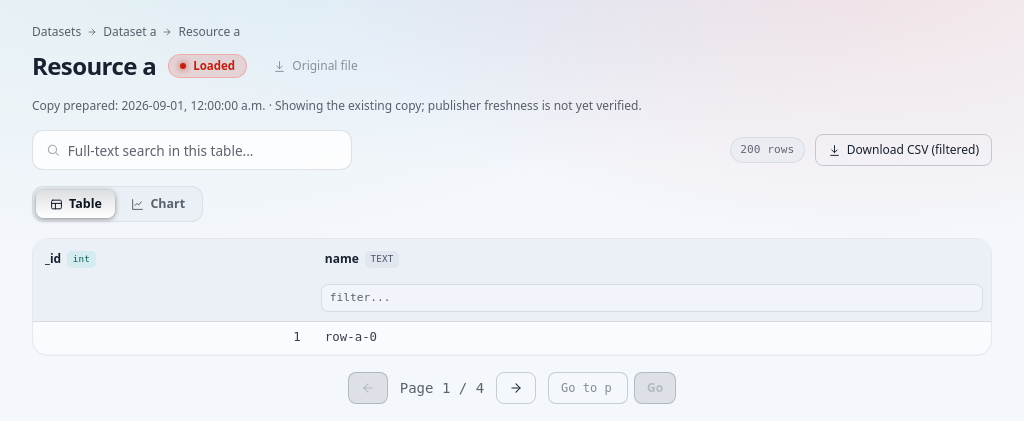
Test: ResourcePage row cache › prefetches the page behind the current one and then shows it at once
Check: the text "row-a-0" is shown, box [313, 322, 991, 355]
Click the button named "Next page" at (516, 388), box [496, 372, 536, 404]
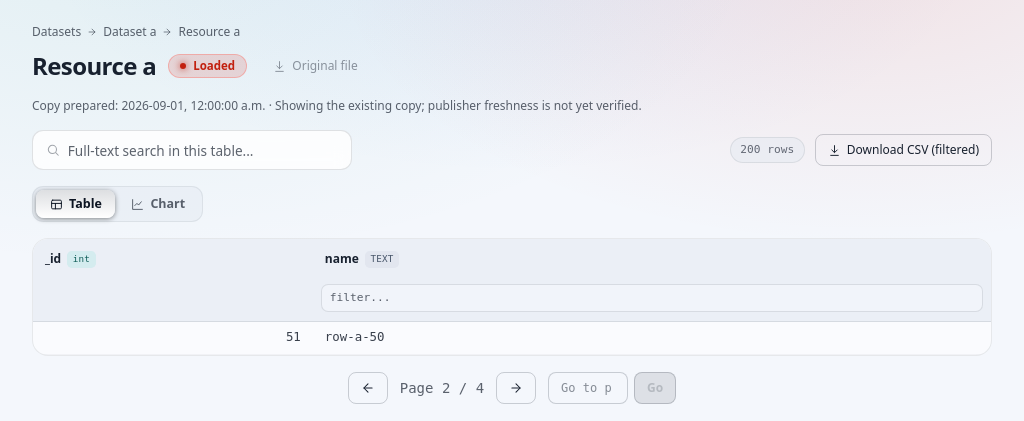
Check: the text "row-a-50" is shown, box [313, 322, 991, 355]
Check: the text "Page 2 / 4" is shown, box [400, 378, 484, 398]
